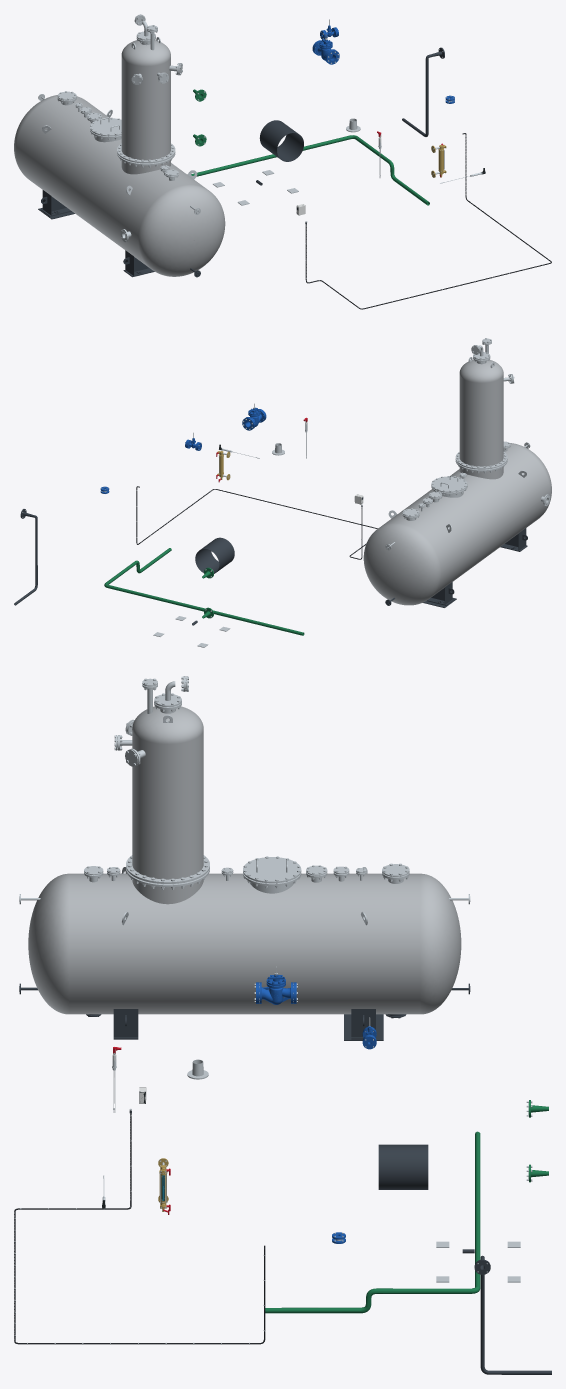
The model's file is s4000-1-snVEgibn.glb.
3 renders of one model, top to bottom at view 1: azimuth 30°, elevation 25°; view 2: azimuth 150°, elevation 25°; view 3: azimuth 270°, elevation 25°, orthographic. The views are drawn at different scales.
Visible parts, largest first — view 1: deaerator CAD solid 56, deaerator CAD solid 257, flue_spacer / dark, suction_common / green, wiring_pump_1 / black, bottom_to_bdv / dark, deaerator CAD solid 408; view 2: deaerator CAD solid 56, deaerator CAD solid 257, suction_common / green, flue_spacer / dark, wiring_pump_1 / black, deaerator CAD solid 408, bottom_to_bdv / dark; view 3: deaerator CAD solid 56, deaerator CAD solid 257, flue_spacer / dark, suction_common / green, wiring_pump_1 / black, deaerator CAD solid 408, bottom_to_bdv / dark.
Part boxes in pixels (x1,y1,x2,y2): deaerator CAD solid 56: (14,95,225,276); deaerator CAD solid 257: (121,40,170,160); flue_spacer / dark: (259,120,303,161); suction_common / green: (191,135,429,205); wiring_pump_1 / black: (305,133,551,309); bottom_to_bdv / dark: (402,47,444,136); deaerator CAD solid 408: (90,118,121,136); deaerator CAD solid 56: (363,443,551,605); deaerator CAD solid 257: (459,359,503,466); suction_common / green: (104,548,304,635); flue_spacer / dark: (195,537,234,573); wiring_pump_1 / black: (136,486,377,559); deaerator CAD solid 408: (431,476,467,492); bottom_to_bdv / dark: (14,509,37,605); deaerator CAD solid 56: (28,873,461,1014); deaerator CAD solid 257: (132,706,203,879); flue_spacer / dark: (378,1144,428,1189); suction_common / green: (265,1131,480,1313); wiring_pump_1 / black: (14,1113,265,1344); deaerator CAD solid 408: (243,857,301,883); bottom_to_bdv / dark: (474,1255,551,1374).
Size of the model in its own units: 7.62 by 4.82 by 5.43.
